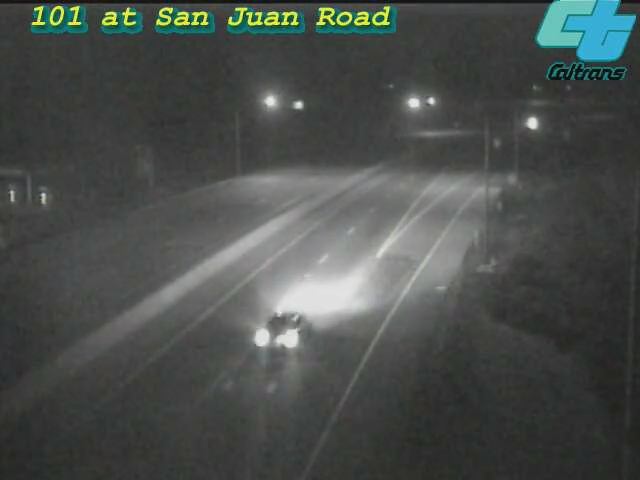vehicle: (227, 278, 337, 388), (505, 99, 555, 149)
